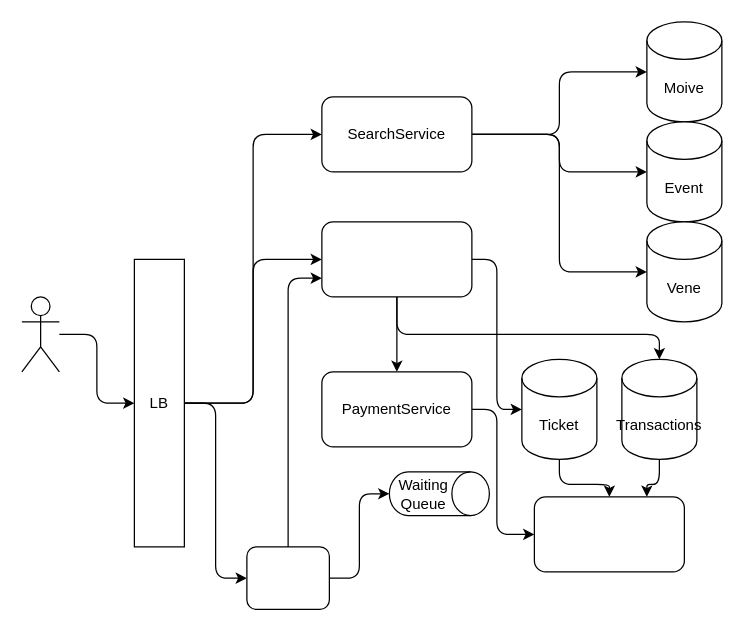
Some shapes in this 744 by 631 pixel diagram are drawn without their labels. The shapes that lost their labels are listed below. From the top down, each one's centre as x and y in pixels, then its label:
At pixel 396 259: "BookingService".
At pixel 40 334: "User".
At pixel 608 534: "CoordinateService Status".
At pixel 287 577: "Waiting Service".
